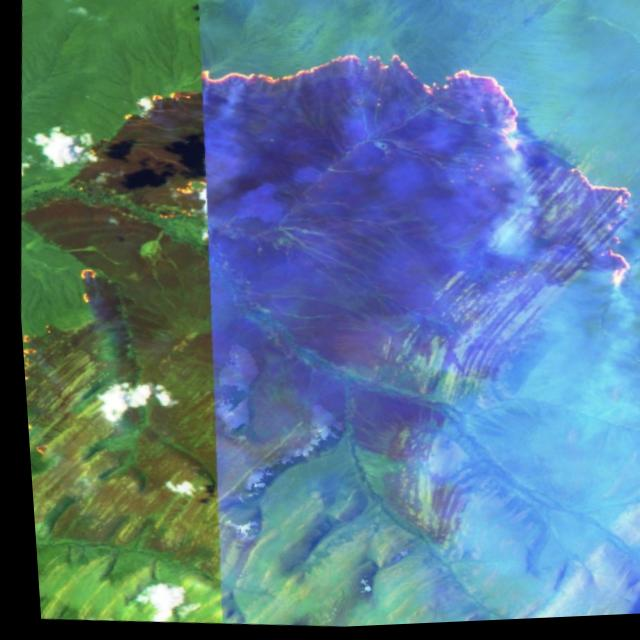fire: (93, 24, 640, 311)
